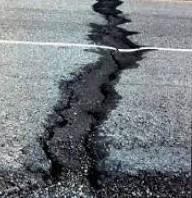pothole: (42, 66, 121, 192), (0, 165, 192, 198), (86, 0, 140, 68)
